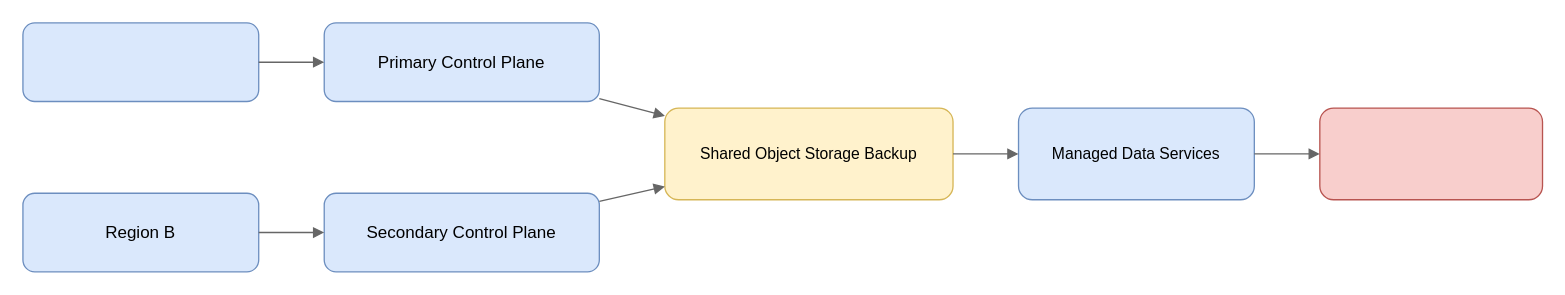
Some shapes in this 1565 by 295 pixel diagram are drawn without their labels. Each missing label, with the centre of its shape:
"Failover / Recovery" belongs at point (1431, 153).
"Region A" belongs at point (140, 62).
